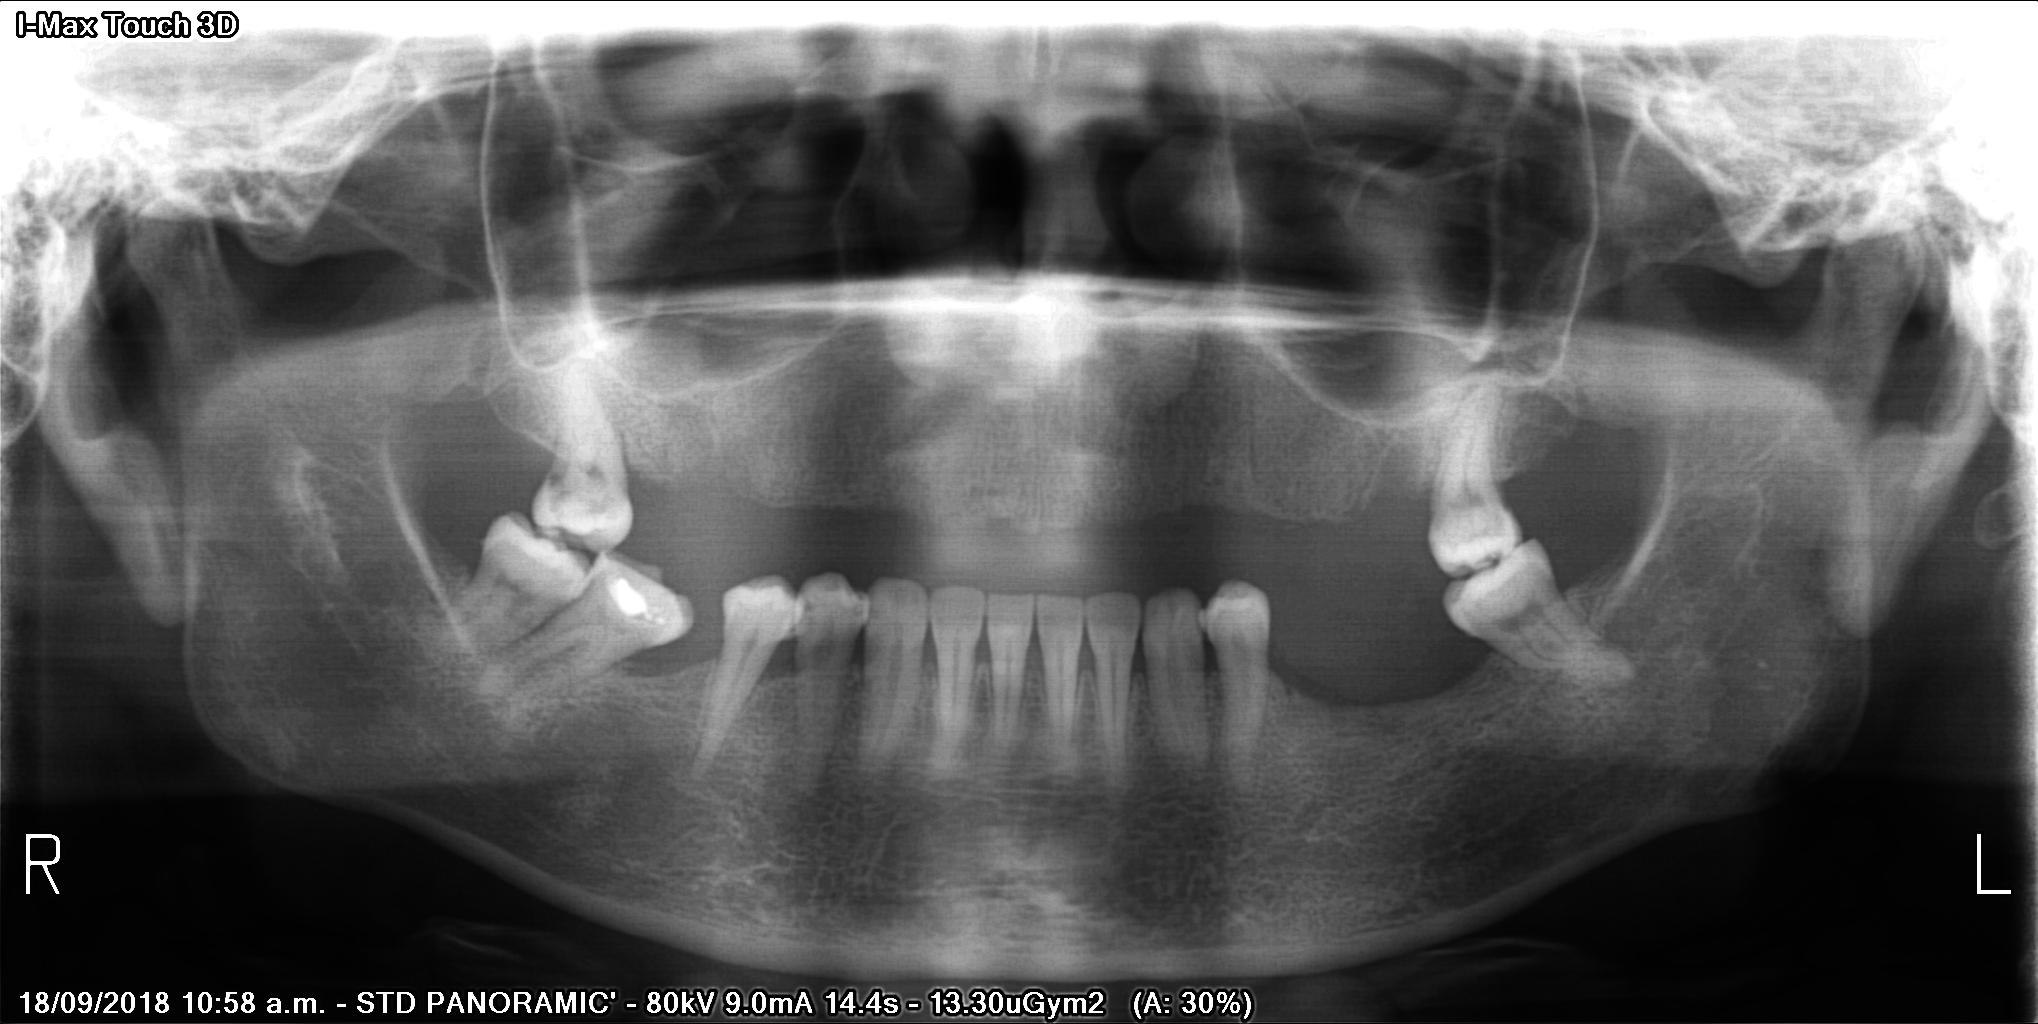Çürük: (594, 559, 651, 614)
Çürük Bölgesi: (542, 465, 567, 498), (627, 601, 655, 628)
